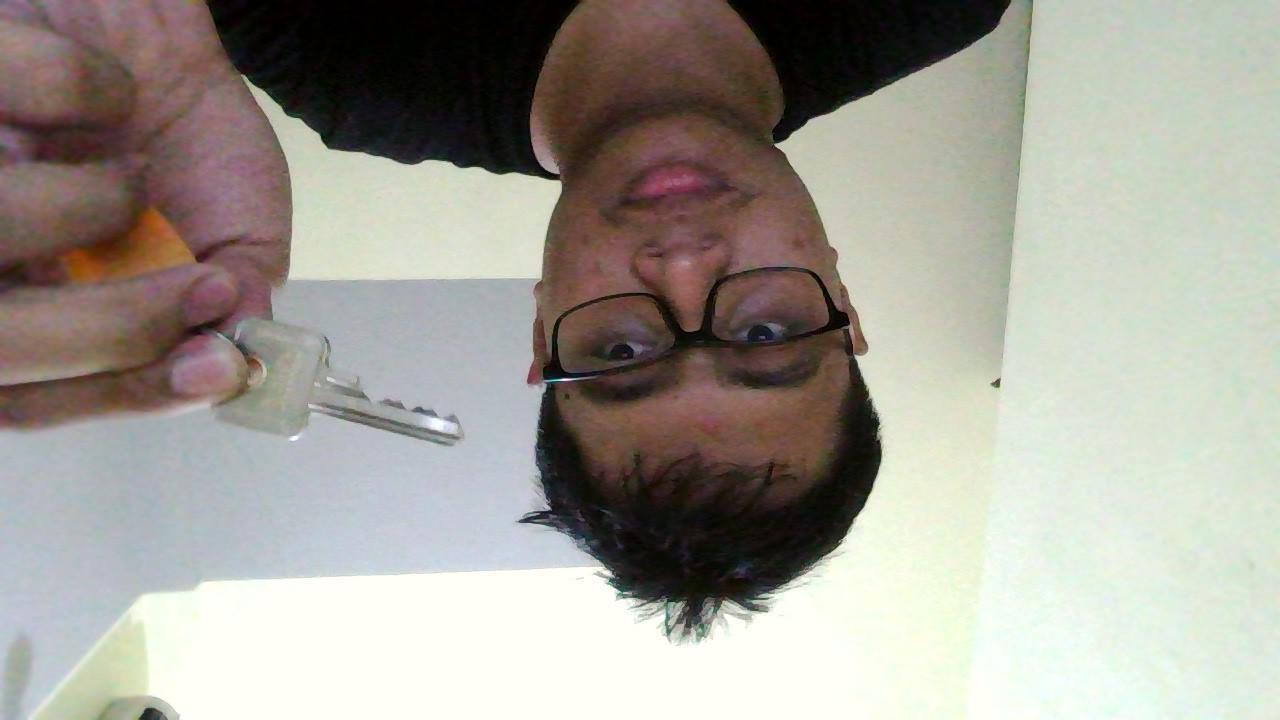keys: (203, 311, 473, 465)
